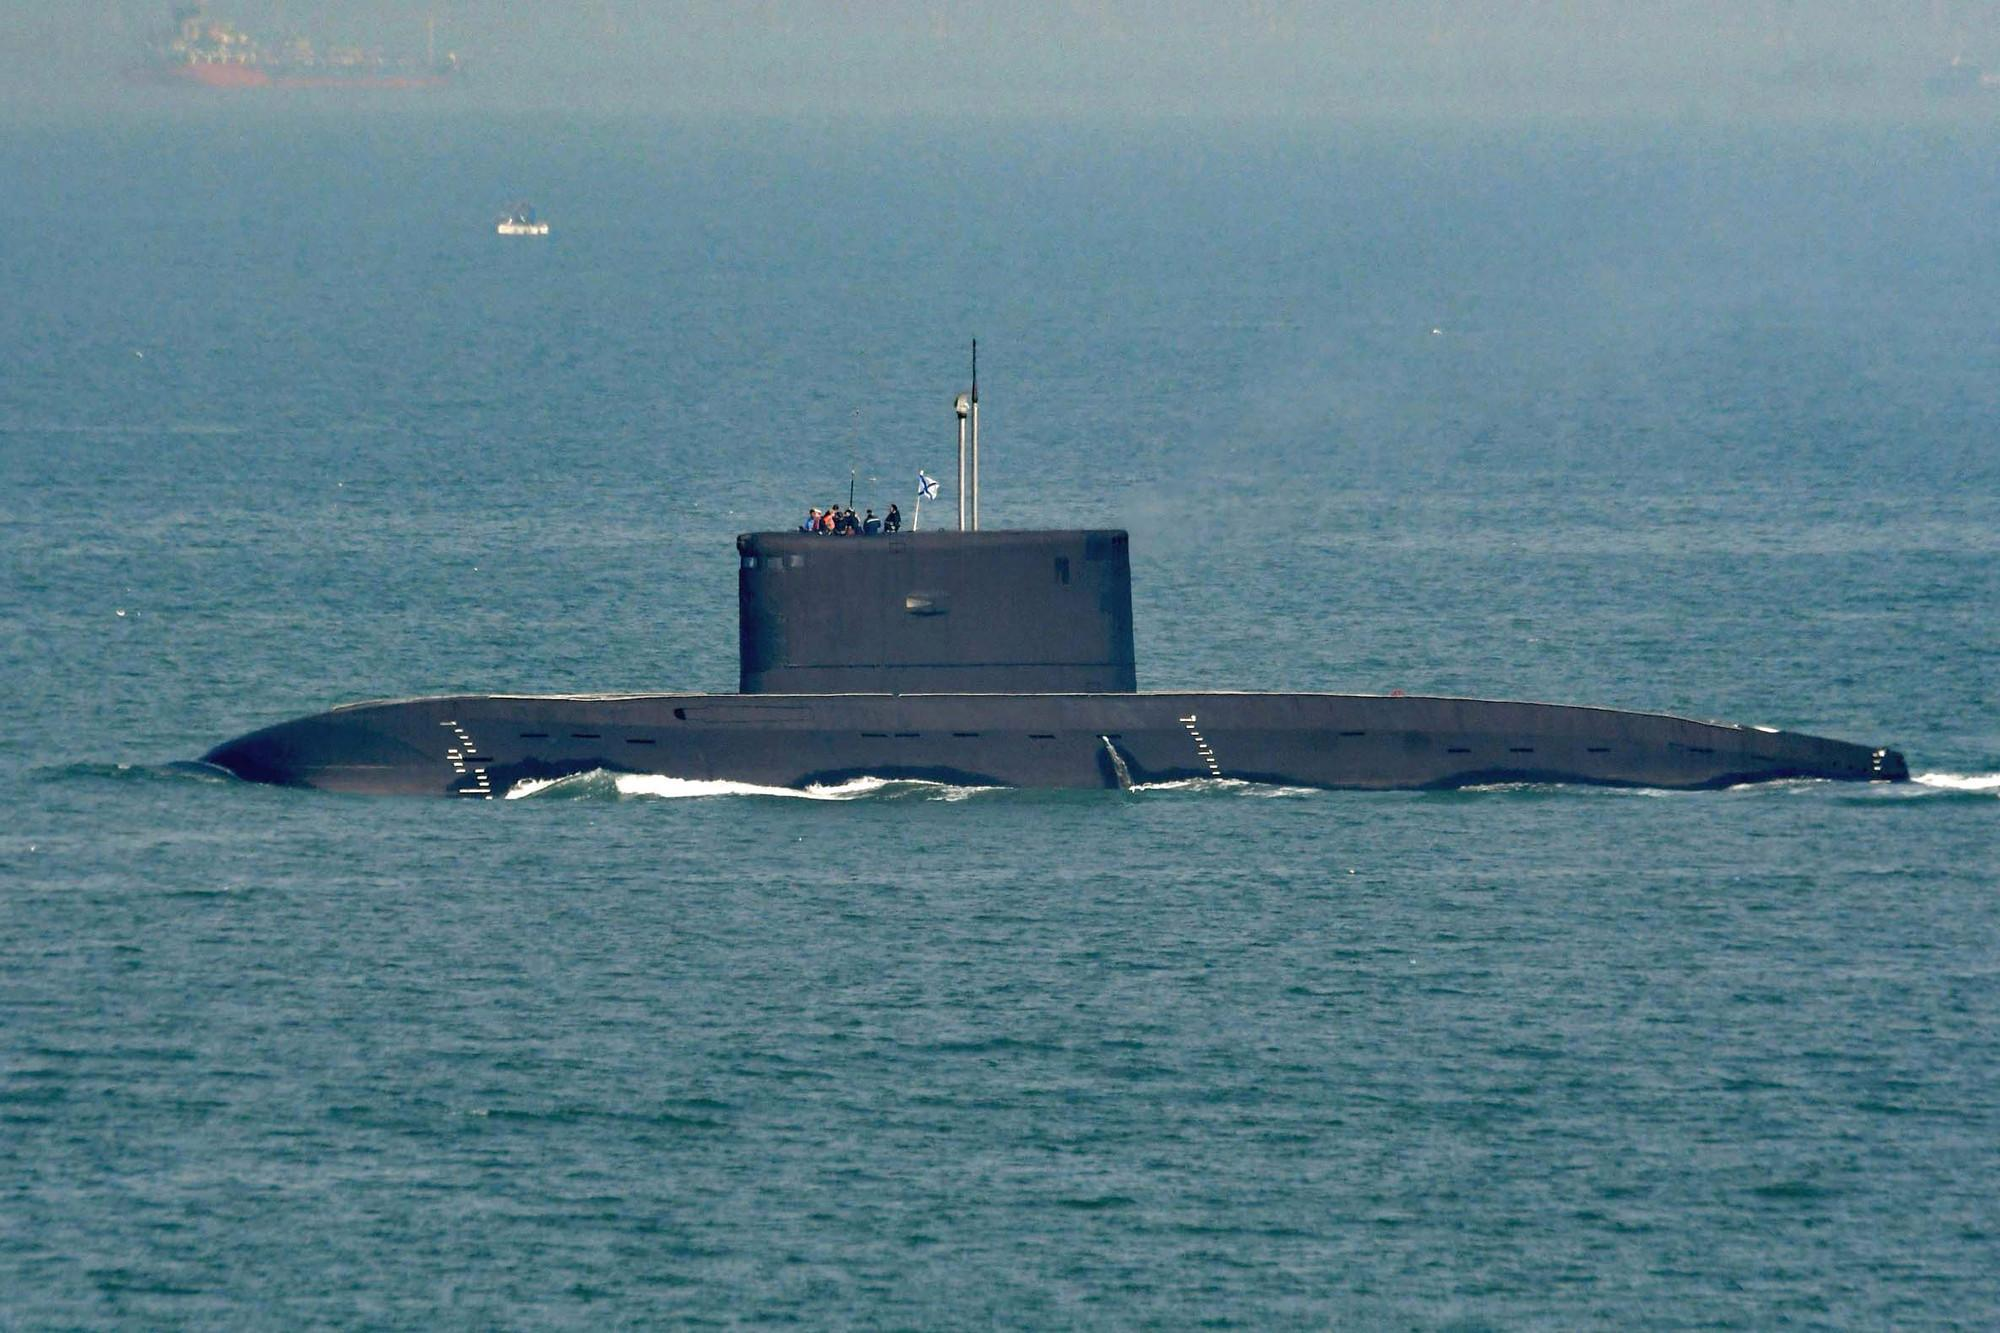Submarine: (129, 314, 1933, 997)
